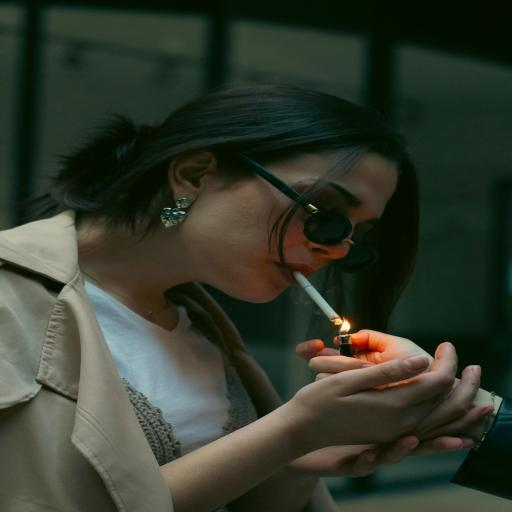membakar rokok: (231, 211, 405, 383)
